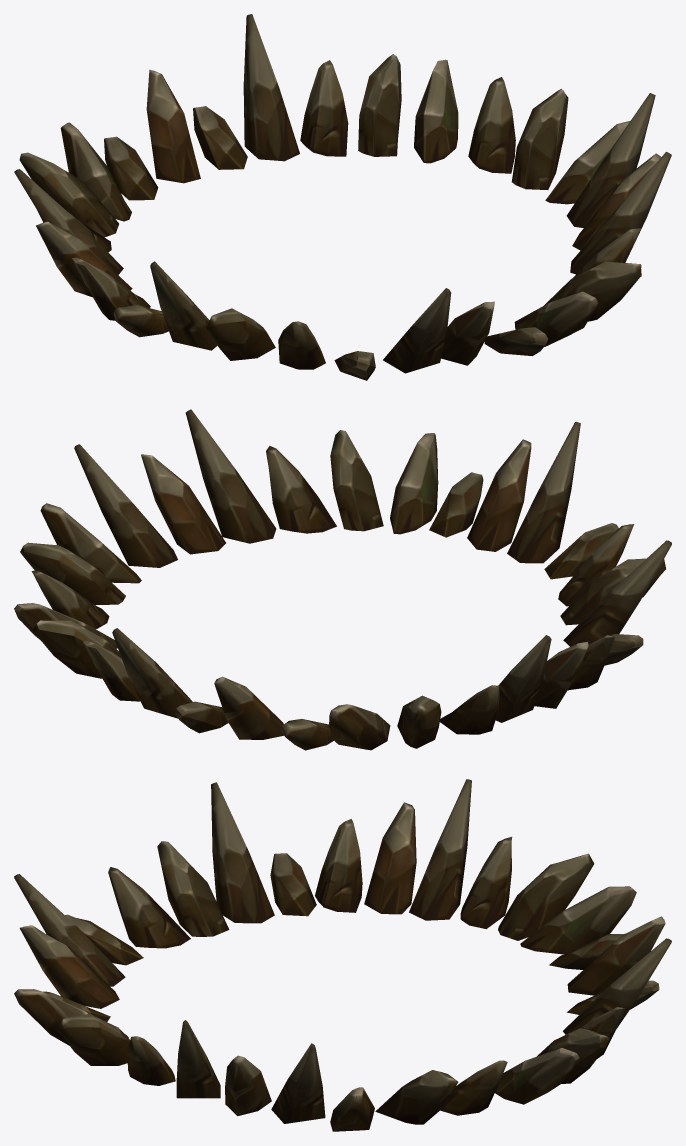
File: stone.FBX
3 views of the same model, one above another, from view 1: azimuth 30°, elevation 25°; view 2: azimuth 150°, elevation 25°; view 3: azimuth 270°, elevation 25° (orthographic).
Parts seen in each view (by area): view 1: objBox003; view 2: objBox003; view 3: objBox003.
Part boxes in pixels (left/top/right/bottom): objBox003: left=14, top=14, right=671, bottom=380; objBox003: left=14, top=409, right=671, bottom=750; objBox003: left=14, top=779, right=671, bottom=1131.
Size of the model in its own units: 13055 by 2236 by 13074.
